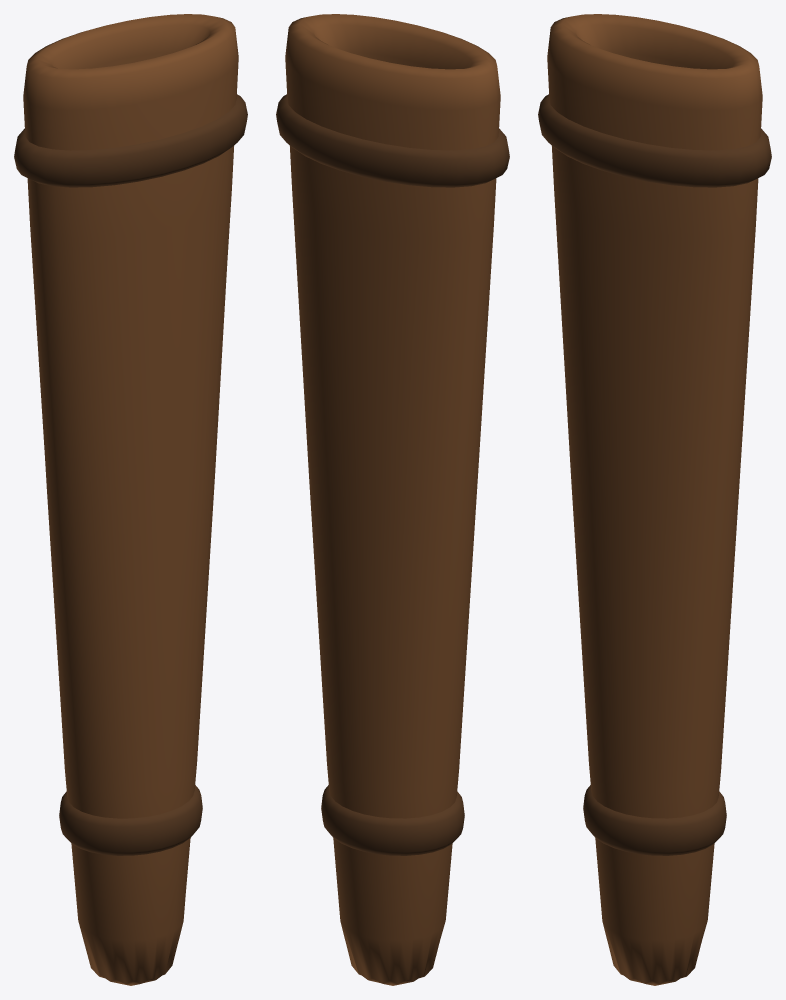
Rendered from quiver_fantasy.fbx.
3 renders of one model, left to right at view 1: azimuth 30°, elevation 25°; view 2: azimuth 150°, elevation 25°; view 3: azimuth 330°, elevation 25°, orthographic.
Parts seen in each view (by area): view 1: quiver; view 2: quiver; view 3: quiver.
Part boxes in pixels (x1=…): quiver: x1=14, y1=14, x2=247, y2=985; quiver: x1=276, y1=14, x2=509, y2=985; quiver: x1=538, y1=14, x2=771, y2=985.
Size of the model in its own units: 61.76 by 248 by 32.55.
